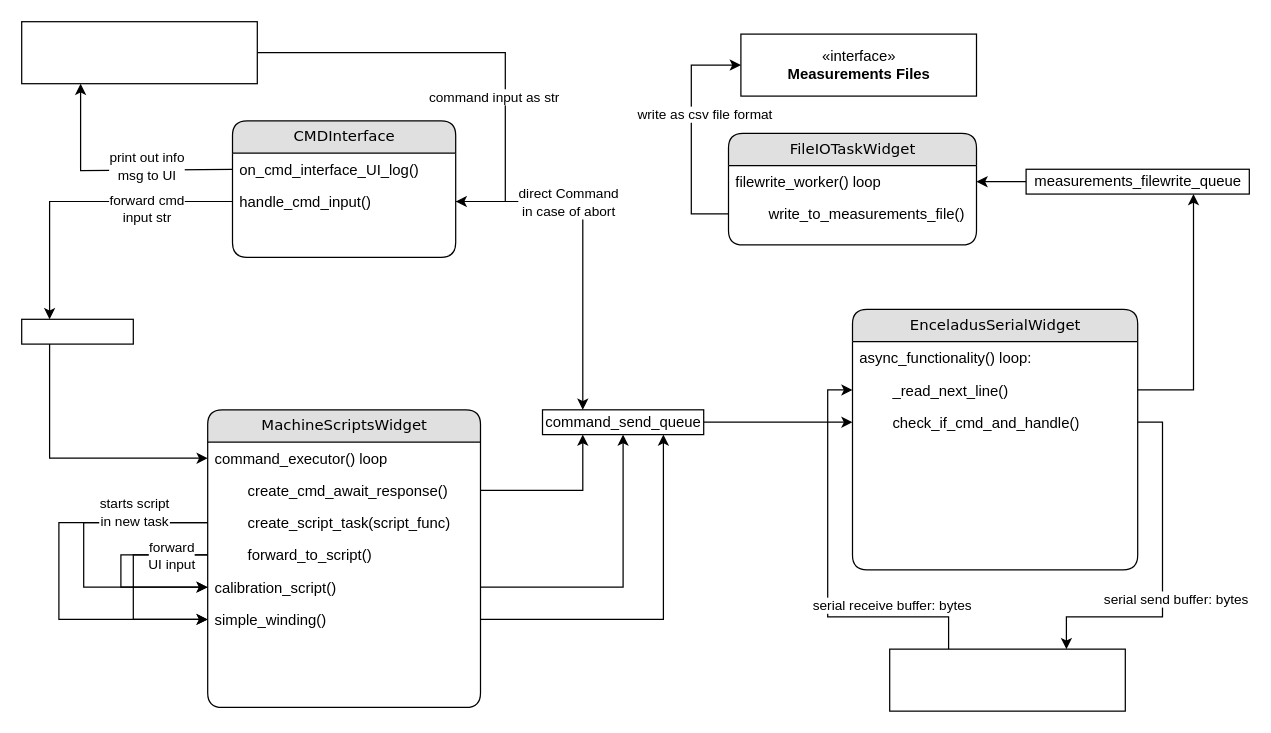
Image size: 1271x733. Some labels were removed from this diagram. Each missing label, with the box of its shape:
ui_cmd_queue: (20, 318, 133, 344)
«interface» Serial Connection: (888, 648, 1125, 711)
«interface» User: (20, 20, 257, 84)
